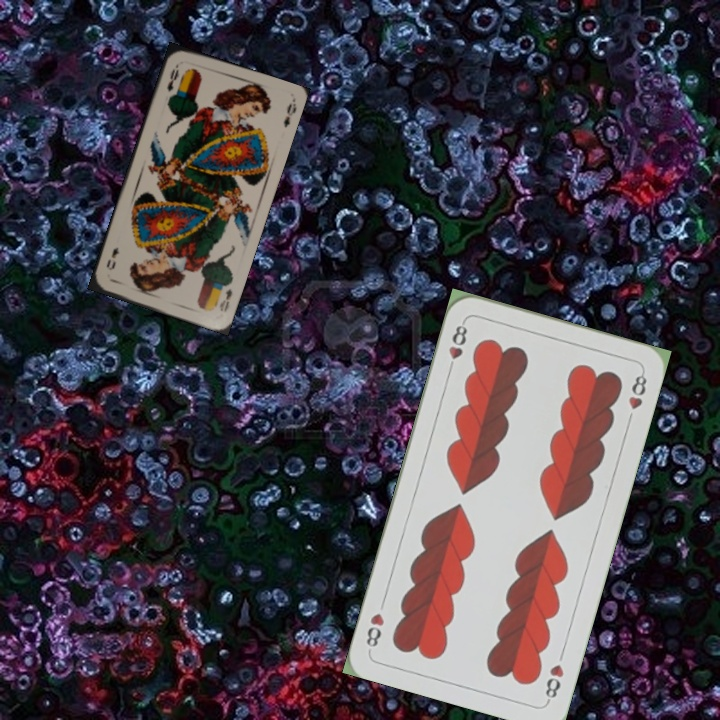EO: (215, 277, 235, 315), (163, 60, 181, 94)
H8: (444, 317, 470, 375), (541, 660, 567, 705)
